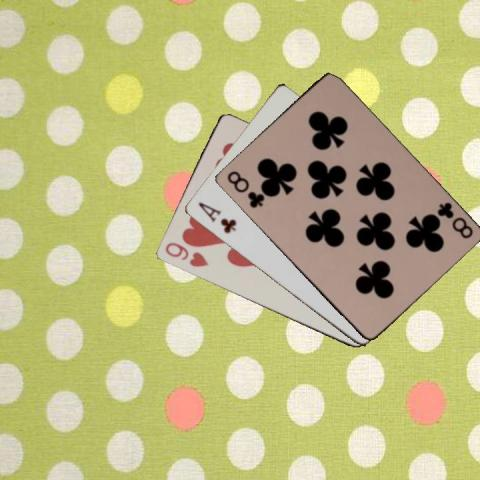8c: (224, 168, 266, 209), (433, 198, 474, 240)
9h: (162, 239, 210, 269)
Ac: (195, 199, 237, 235)
